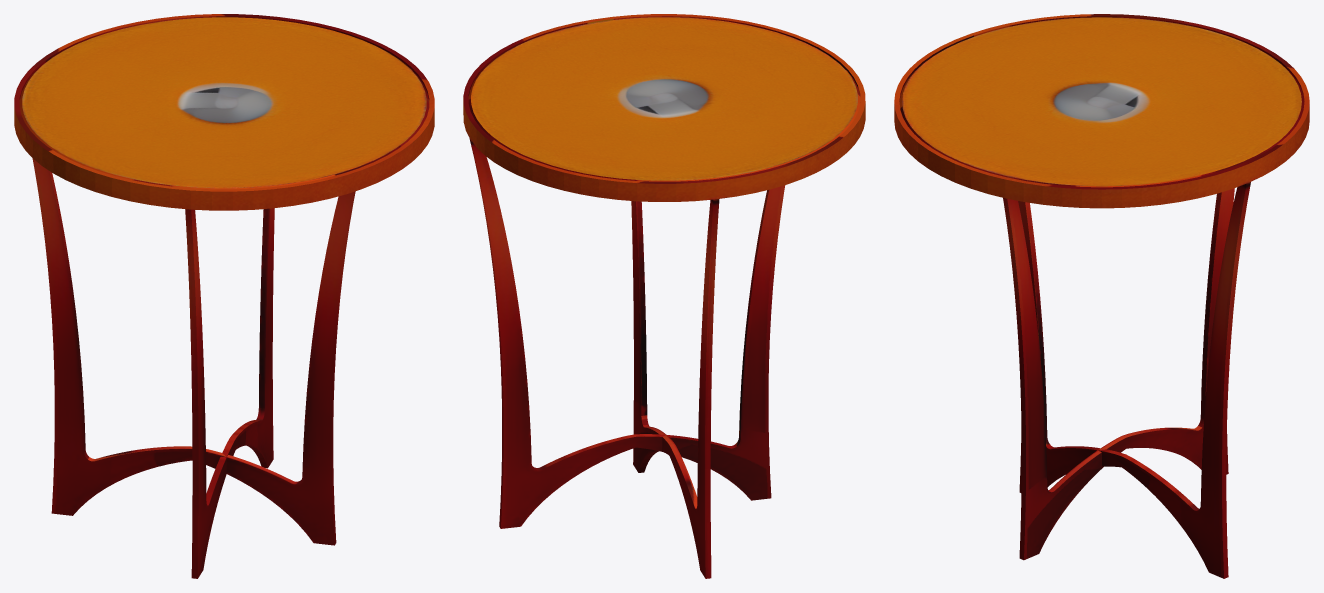
File: edited_mesh.glb
3 views of the same model, side by side, from view 1: azimuth 30°, elevation 25°; view 2: azimuth 150°, elevation 25°; view 3: azimuth 270°, elevation 25° (orthographic). The views are drawn at different scales.
Parts seen in each view (by area): view 1: solid_001_wire; view 2: solid_001_wire; view 3: solid_001_wire.
Boxes of the visible parts, x1,y1,x2,y2 form: solid_001_wire: (14, 14, 434, 578); solid_001_wire: (463, 14, 865, 578); solid_001_wire: (894, 14, 1309, 578).
Bounding box in the file's own units: 1.23 × 1.38 × 1.23.
1 material, 1 textured.
